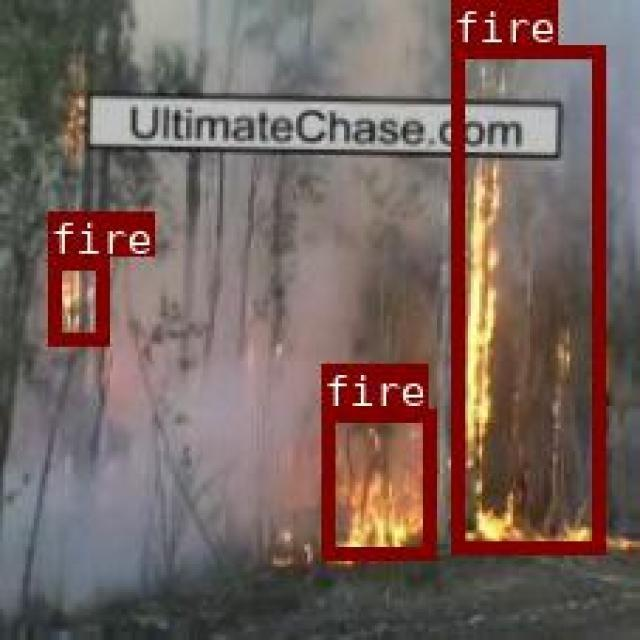fire: (450, 44, 603, 551), (320, 409, 432, 558), (48, 254, 105, 343)
